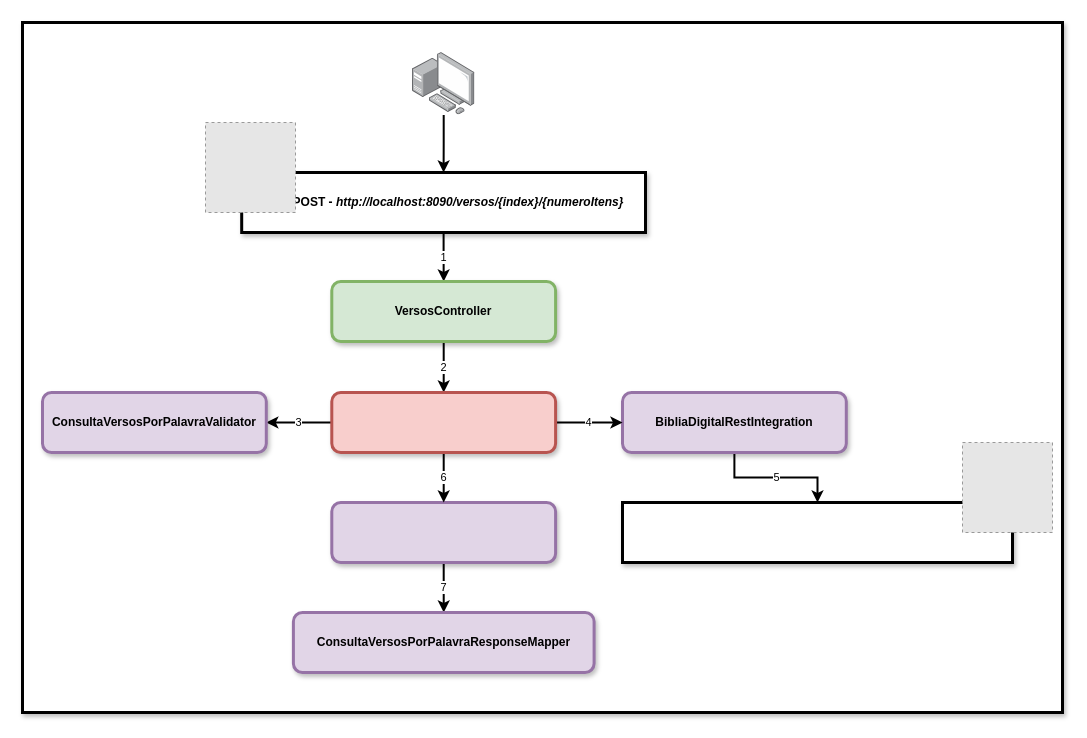
Some shapes in this 1087 by 738 pixel diagram are drawn without their labels. Grey dashed boxes stand in for pictures. The shapes that lost their labels are listed below. From the top down, each one's centre as x and y in pixels, then its label:
point (444, 423): ConsultaVersosPorPalavraService
point (444, 533): PaginacaoService
point (818, 533): POST - https://www.abibliadigital.com.br/api/verses/search
